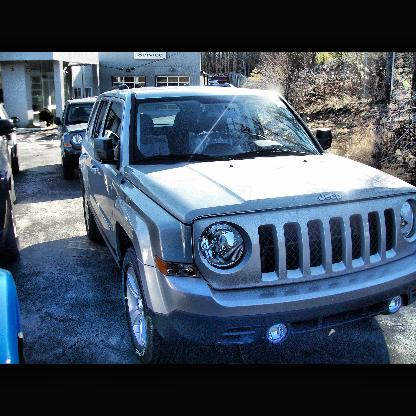Jeep Patriot SUV 2012: (79, 86, 416, 360)
